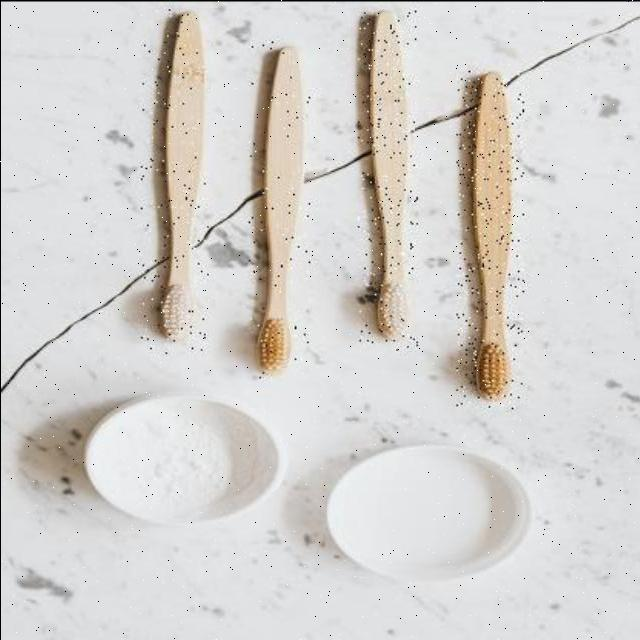toothbrush: (137, 8, 207, 352), (456, 66, 522, 408), (248, 38, 308, 386), (358, 8, 418, 348)
